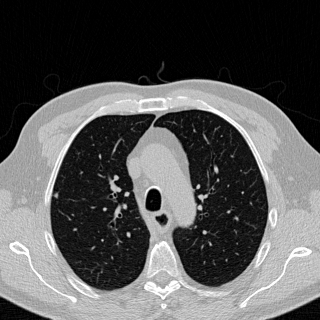nodule: (54, 193, 58, 197)
